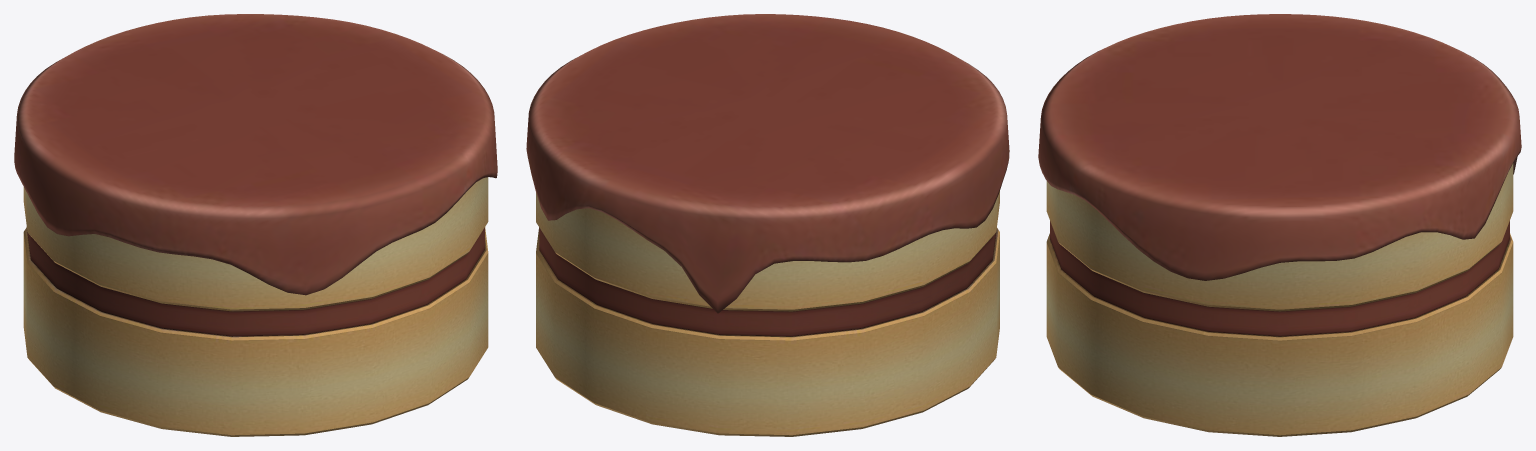
The model's file is chocolateCake.gltf.
3 renders of one model, left to right at view 1: azimuth 30°, elevation 25°; view 2: azimuth 150°, elevation 25°; view 3: azimuth 270°, elevation 25°, orthographic.
Parts seen in each view (by area): view 1: ChocolateCakeCreamLayer, JamCakeBottomLayer, JamCakeLayer, ChocolateCakeFilling; view 2: ChocolateCakeCreamLayer, JamCakeBottomLayer, JamCakeLayer, ChocolateCakeFilling; view 3: ChocolateCakeCreamLayer, JamCakeBottomLayer, JamCakeLayer, ChocolateCakeFilling.
Boxes of the visible parts, <box> form: ChocolateCakeCreamLayer: <box>14,14,497,295</box>; JamCakeBottomLayer: <box>23,227,488,436</box>; JamCakeLayer: <box>23,177,488,311</box>; ChocolateCakeFilling: <box>27,227,484,336</box>; ChocolateCakeCreamLayer: <box>526,14,1009,313</box>; JamCakeBottomLayer: <box>536,227,999,436</box>; JamCakeLayer: <box>536,191,999,311</box>; ChocolateCakeFilling: <box>539,228,996,336</box>; ChocolateCakeCreamLayer: <box>1038,14,1521,280</box>; JamCakeBottomLayer: <box>1046,233,1513,436</box>; JamCakeLayer: <box>1046,163,1513,311</box>; ChocolateCakeFilling: <box>1050,221,1509,336</box>.
Bounding box in the file's own units: 0.2749 × 0.1435 × 0.2749.
1 material, 1 textured.
